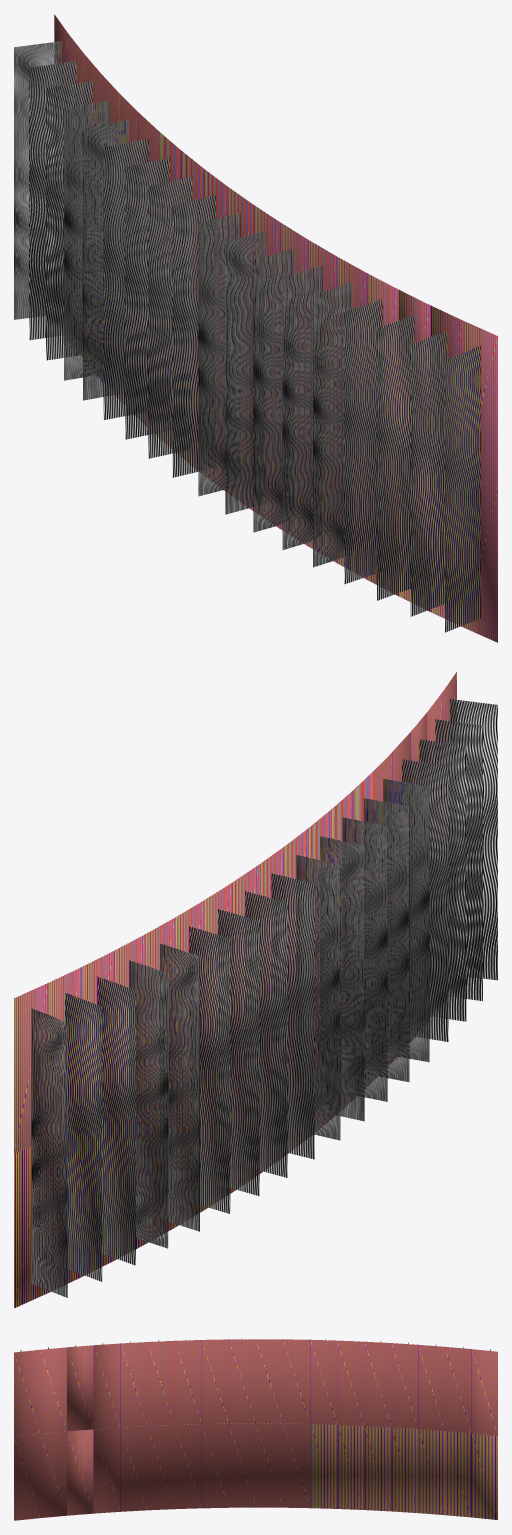
3 renders of one model, top to bottom at view 1: azimuth 30°, elevation 25°; view 2: azimuth 150°, elevation 25°; view 3: azimuth 270°, elevation 25°, orthographic. The views are drawn at different scales.
Visible parts, largest first — view 1: curved wall 7 13 26; view 2: curved wall 7 13 26; view 3: curved wall 7 13 26.
Boxes of the visible parts, x1,y1,x2,y2 form: curved wall 7 13 26: [14, 14, 497, 642]; curved wall 7 13 26: [14, 672, 497, 1308]; curved wall 7 13 26: [14, 1338, 497, 1520].
Size of the model in its own units: 0.8804 by 2.8 by 7.29.
Materials: 2 (2 with a texture image).
